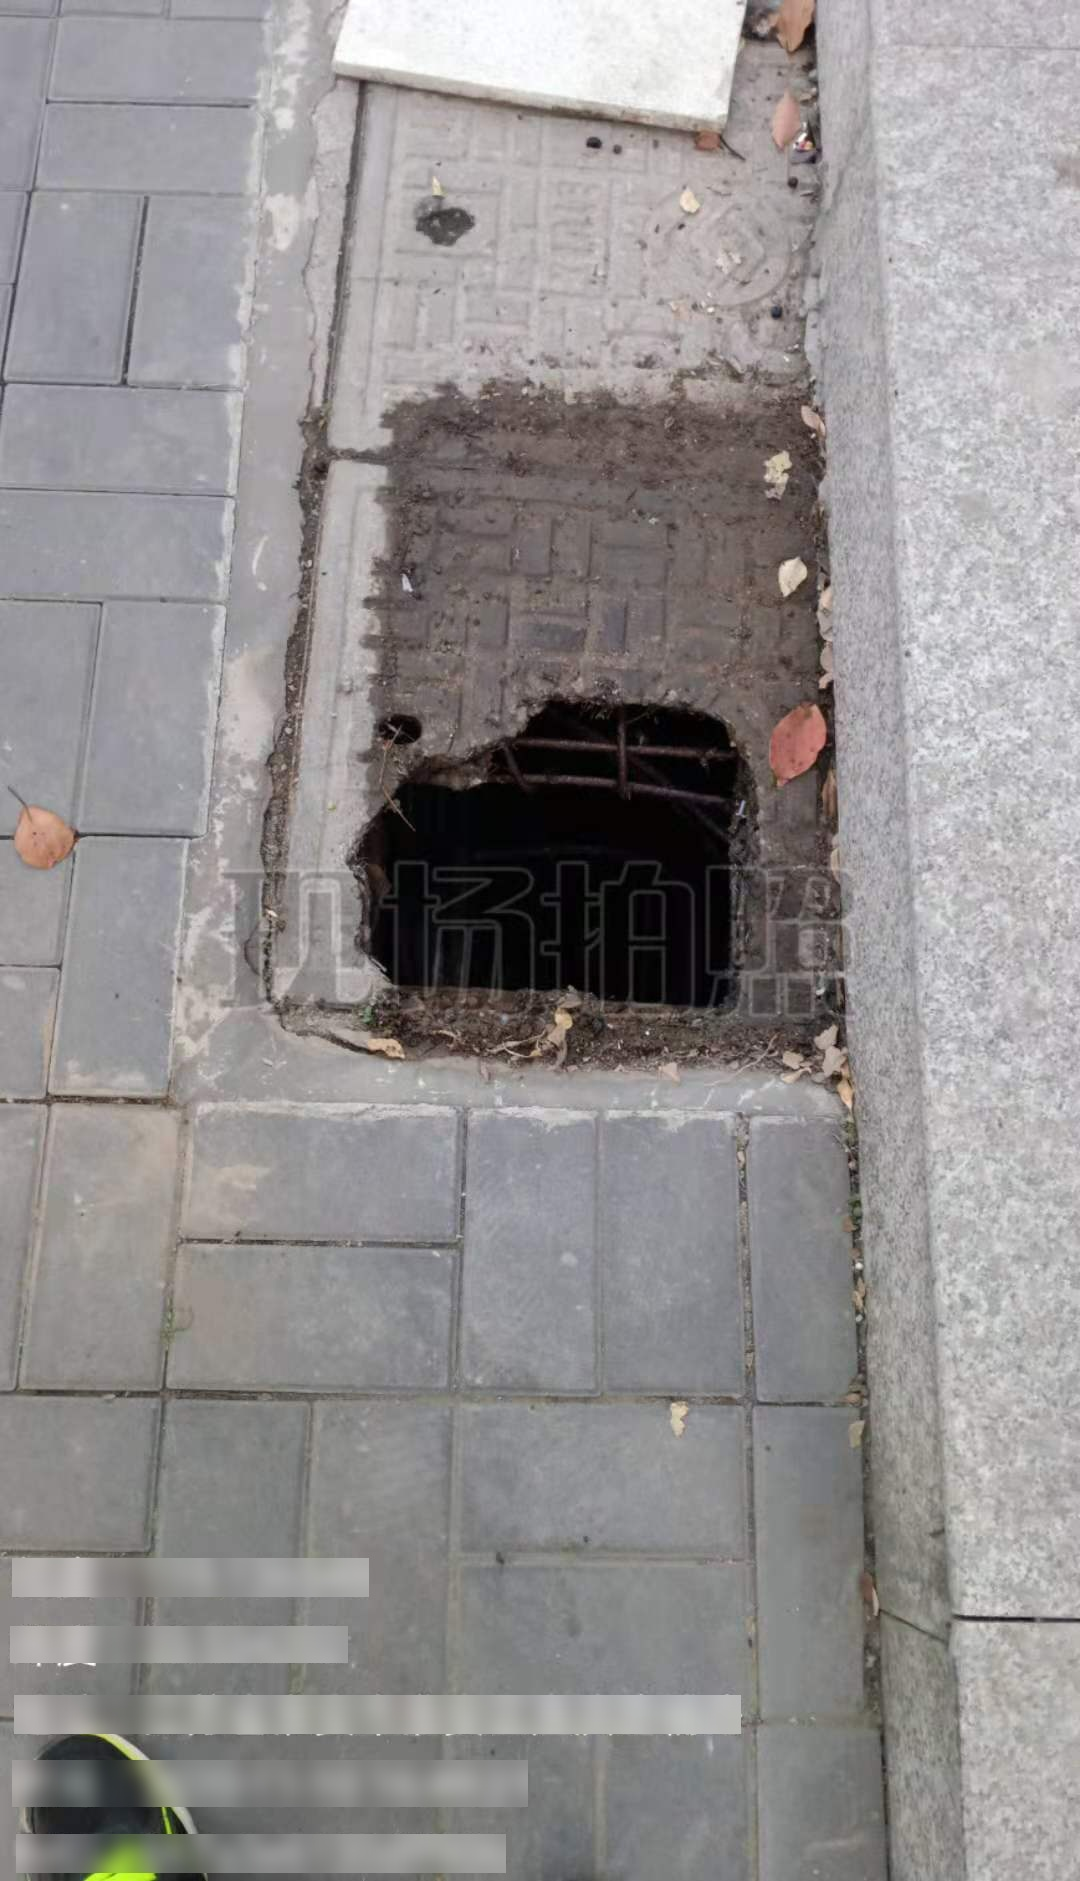broke: (286, 244, 911, 1086)
